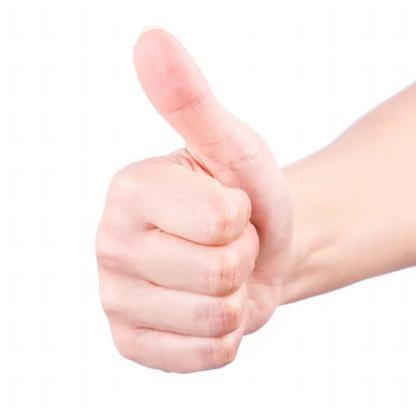thumb_up: (90, 20, 292, 378)
